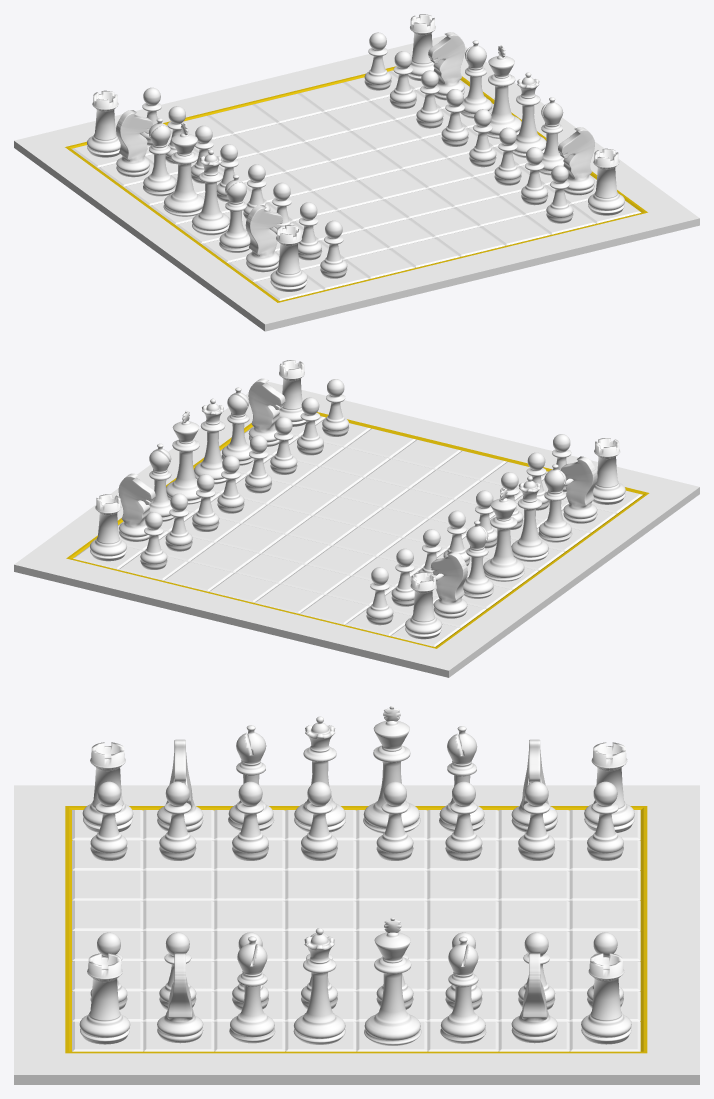
Rendered from uploads_files_6234231_Chess.glb.
3 views of the same model, one above another, from view 1: azimuth 30°, elevation 25°; view 2: azimuth 150°, elevation 25°; view 3: azimuth 270°, elevation 25° (orthographic). The views are drawn at different scales.
Parts seen in each view (by area): view 1: Board, King.001, Knight.002, Knight.001, Knight.004, King, Queen.001, Knight.003, Rook.001, Rook.002, Rook.003, Bishop.002 (+21 smaller); view 2: Board, King.001, Knight.002, Knight.001, Knight.003, King, Queen.001, Knight.004, Rook, Rook.003, Rook.002, Bishop.003 (+21 smaller); view 3: Board, King, Queen, Rook, Rook.001, King.001, Bishop.001, Bishop, Queen.001, Knight.003, Knight.004, Rook.003 (+19 smaller).
Boxes of the visible parts, box(x1,y1,x2,y2) form: Board: box(14, 35, 699, 331); King.001: box(163, 123, 204, 216); Knight.002: box(116, 110, 152, 177); Knight.001: box(245, 205, 282, 272); Knight.004: box(558, 127, 594, 195); King: box(487, 45, 521, 138); Queen.001: box(192, 149, 229, 235); Knight.003: box(428, 32, 465, 100); Rook.001: box(588, 148, 624, 215); Rook.002: box(270, 225, 307, 291); Rook.003: box(87, 90, 120, 157); Bishop.002: box(143, 118, 176, 196); Board: box(14, 381, 699, 677); King.001: box(483, 488, 524, 581); Knight.002: box(430, 551, 467, 618); Knight.001: box(560, 456, 597, 523); Knight.003: box(118, 473, 155, 541); King: box(166, 410, 201, 504); Queen.001: box(511, 476, 548, 561); Knight.004: box(248, 378, 285, 446); Rook: box(90, 494, 126, 561); Rook.003: box(405, 572, 442, 639); Rook.002: box(593, 438, 625, 504); Bishop.003: box(538, 464, 572, 542); Board: box(14, 785, 699, 1084); King: box(364, 917, 421, 1045); Queen: box(293, 928, 345, 1044); Rook: box(581, 953, 631, 1044); Rook.001: box(79, 953, 130, 1044); King.001: box(363, 706, 420, 833); Bishop.001: box(440, 936, 486, 1043); Bishop: box(229, 936, 275, 1043); Queen.001: box(294, 716, 345, 832); Knight.003: box(511, 952, 557, 1043); Knight.004: box(157, 952, 203, 1043); Rook.003: box(584, 742, 634, 832).
Size of the model in its own units: 11.95 by 2.45 by 11.95.
